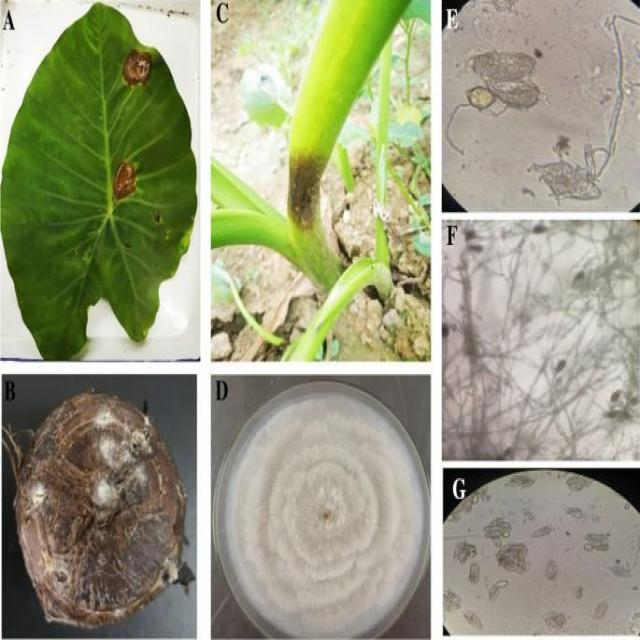blight: (102, 22, 179, 204)
